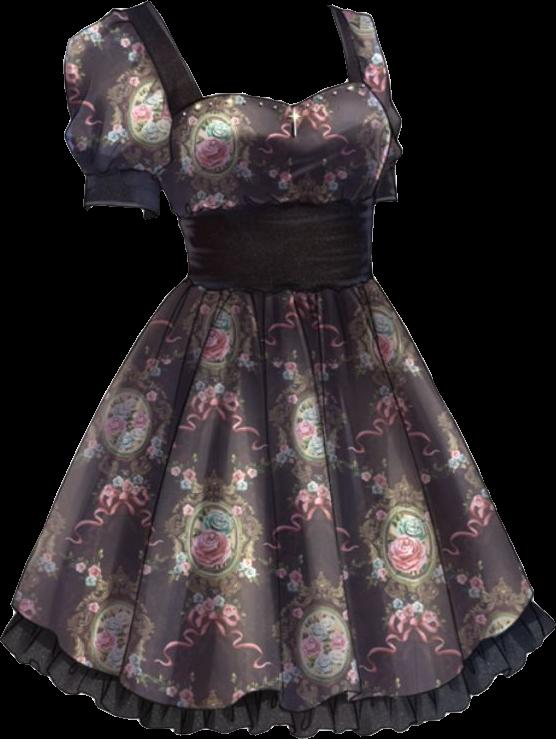Bodice: (120, 0, 392, 294)
Hemline: (0, 619, 555, 738), (6, 591, 536, 715)
Neckline: (148, 0, 355, 110), (168, 78, 370, 121), (174, 191, 379, 220)
Skirt: (0, 279, 555, 738)
Sleeve: (63, 9, 171, 219)
Sleeveline: (122, 10, 175, 115), (82, 165, 163, 182)
Waistline: (182, 276, 377, 302)
